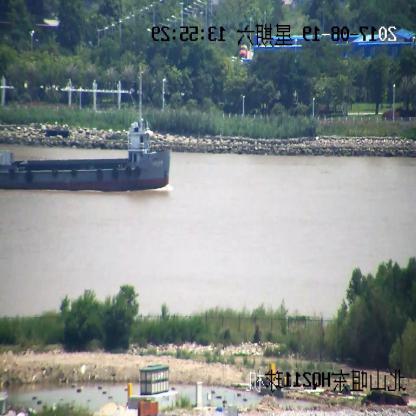Bulk Carrier: (1, 127, 171, 195)
